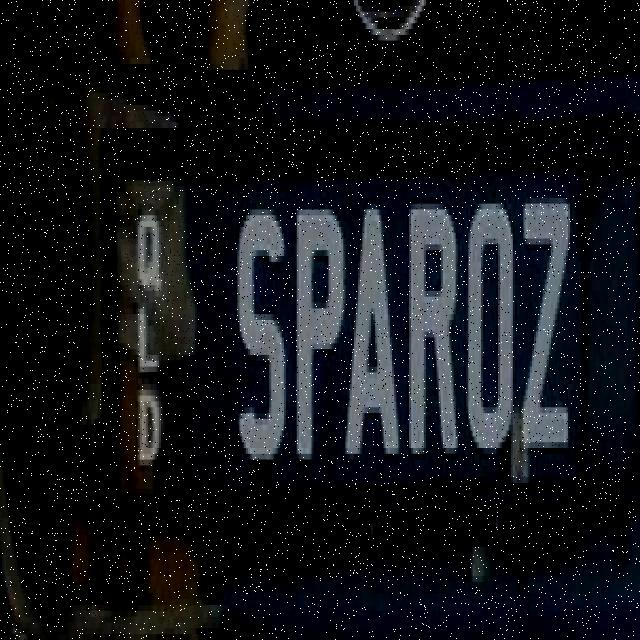licenseplate: (104, 135, 594, 528)
